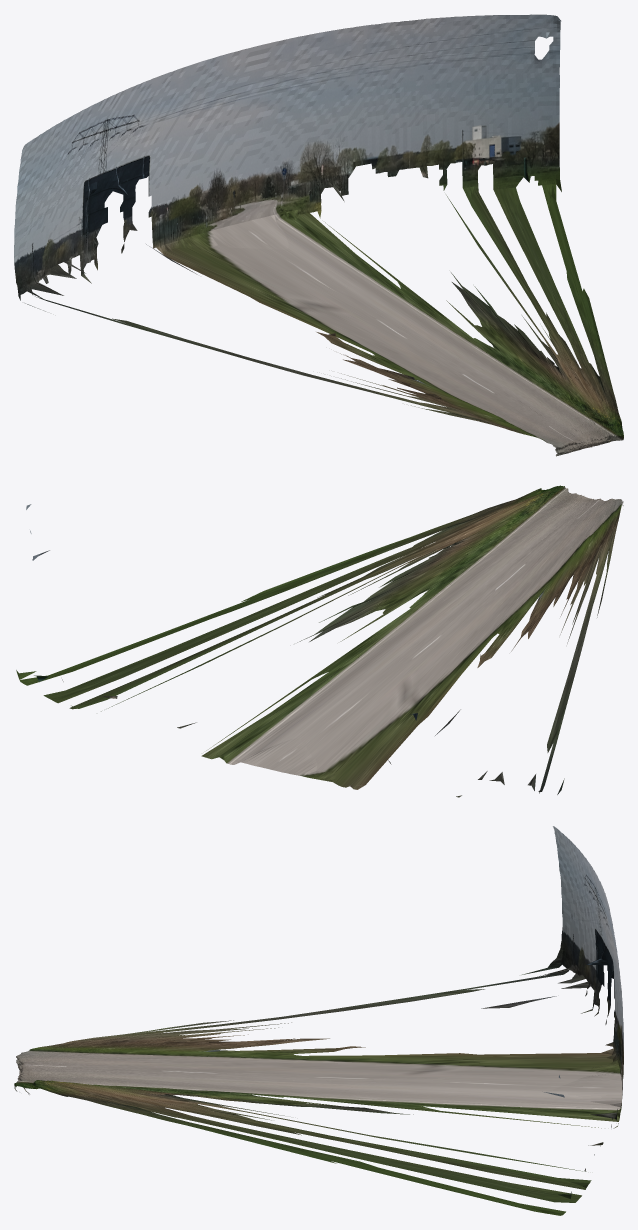
3 views of the same model, one above another, from view 1: azimuth 30°, elevation 25°; view 2: azimuth 150°, elevation 25°; view 3: azimuth 270°, elevation 25° (orthographic). The views are drawn at different scales.
Visible parts, largest first — view 1: defaultobject; view 2: defaultobject; view 3: defaultobject.
Boxes of the visible parts, left/top/right/bottom form: defaultobject: left=14, top=14, right=623, bottom=456; defaultobject: left=16, top=485, right=623, bottom=797; defaultobject: left=14, top=826, right=623, bottom=1215.
Bounding box in the file's own units: 41.16 × 13.56 × 44.37.
Materials: 1 (1 with a texture image).
